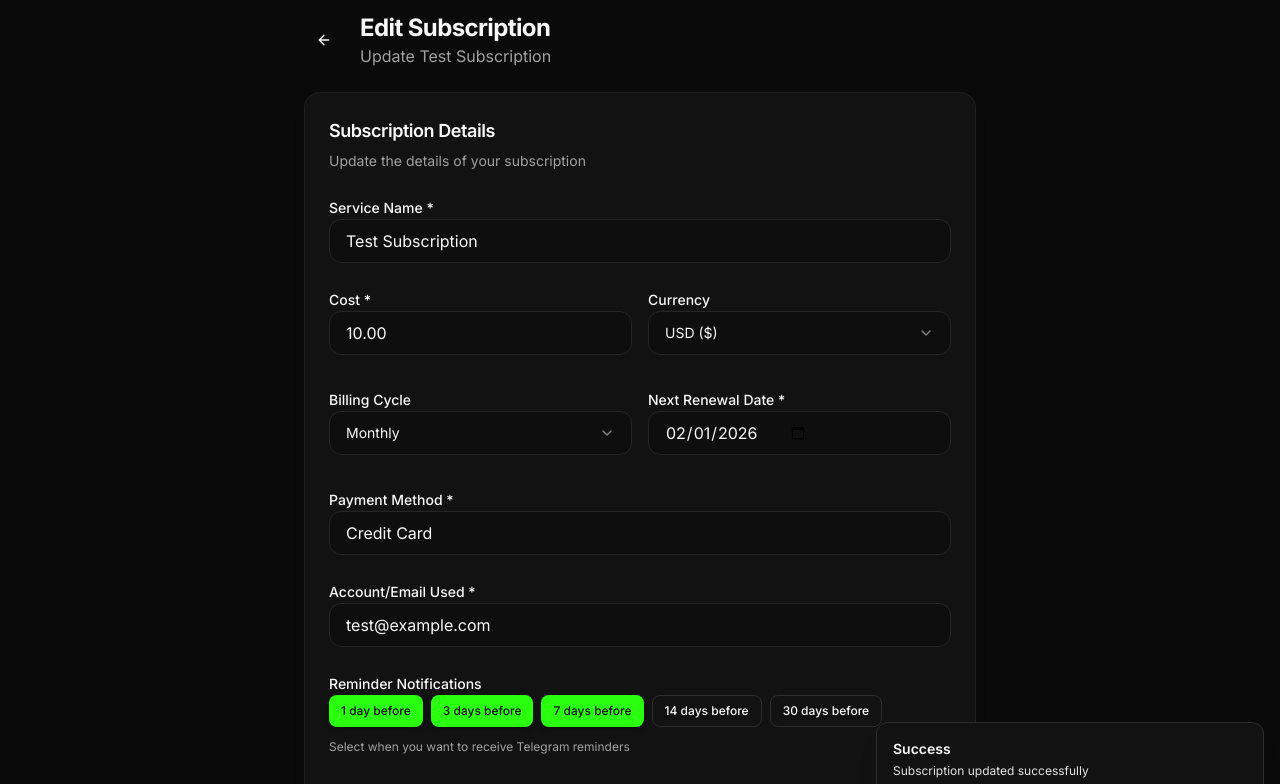
Test: SubscriptionEditPage › Custom Interval Days › shows custom interval field when billing cycle is custom
This screenshot has width=1280, height=784.
Check: the field labelled "renewal interval (days)" is not shown
Click the dropdown labelled "Monthly".
click(373, 432)  # box x1=329 y1=411 x2=632 y2=455
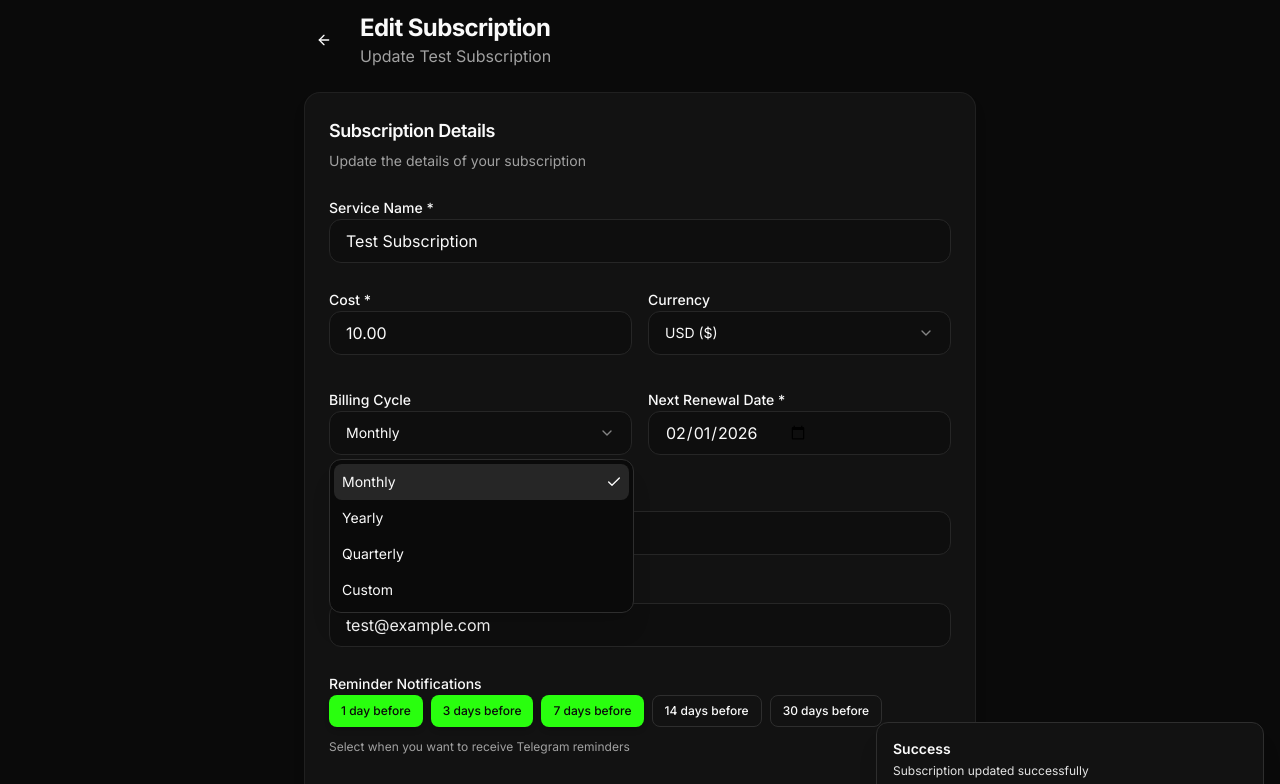
Click the option "Custom".
click(368, 590)  # box x1=342 y1=581 x2=393 y2=598
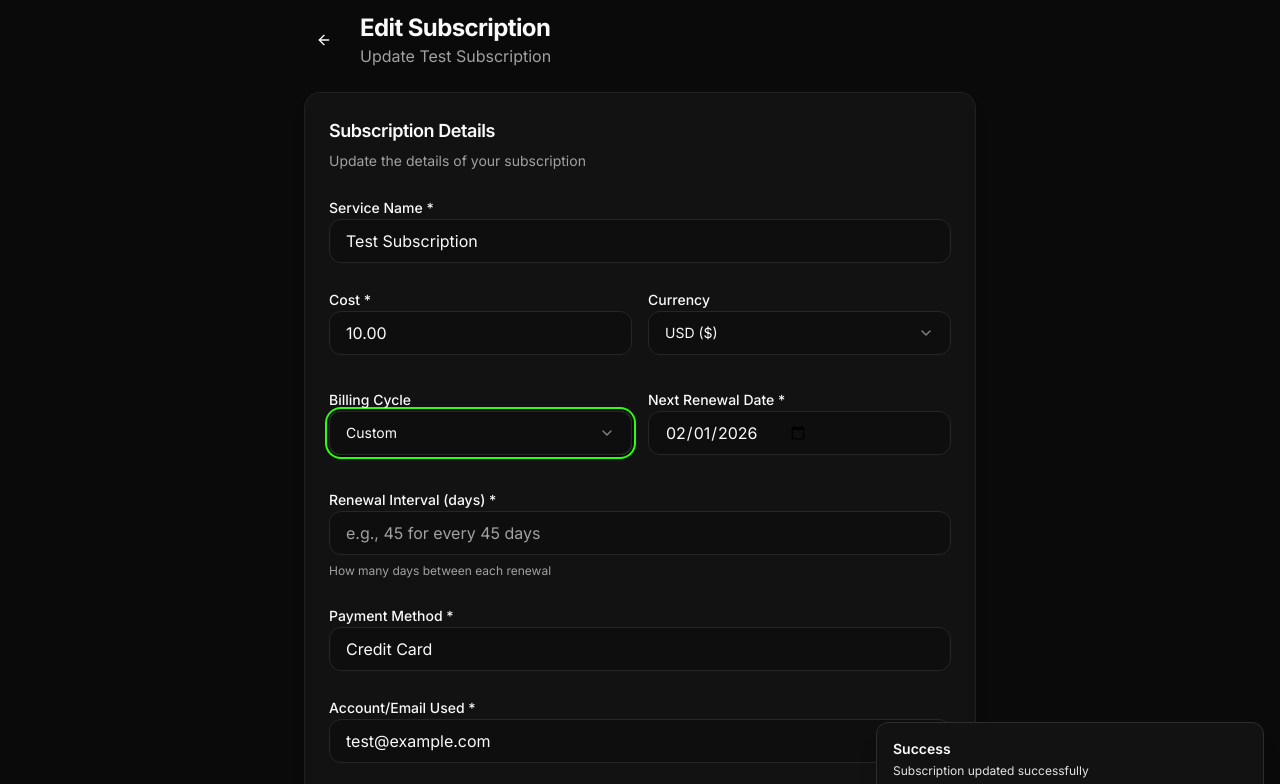
Check: the number field labelled "Renewal Interval (days) *" is shown, box x1=329 y1=511 x2=951 y2=555
